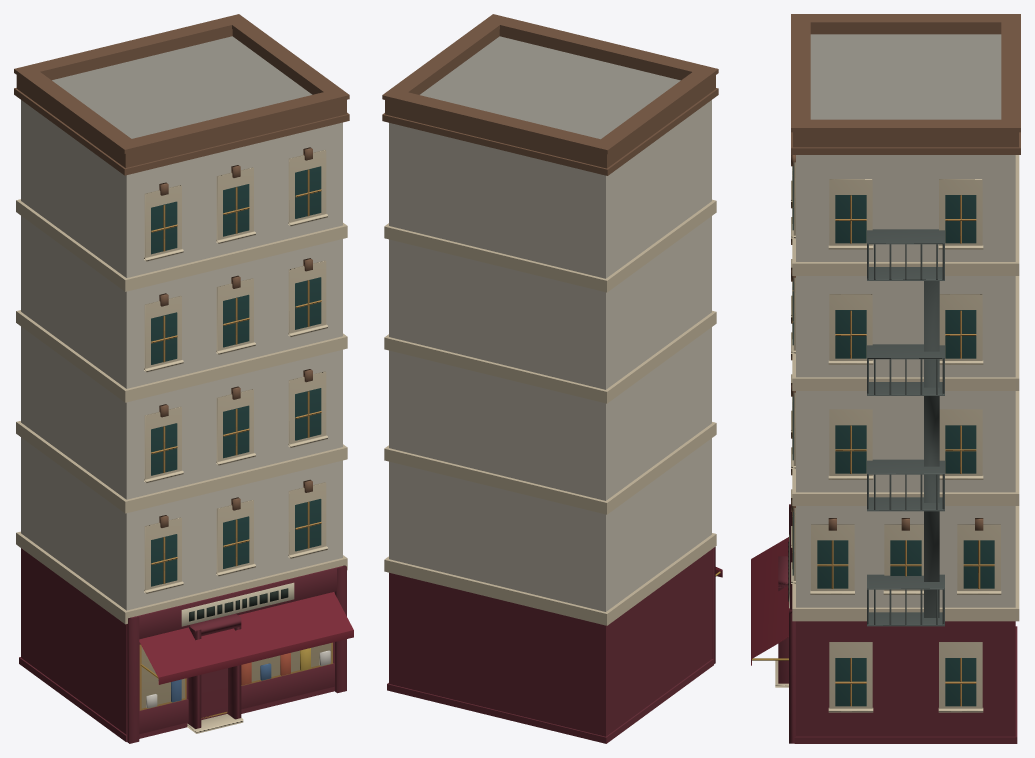
File: city_cream_5.glb
The picture shows the model from 3 angles, left to right: view 1: azimuth 30°, elevation 25°; view 2: azimuth 150°, elevation 25°; view 3: azimuth 270°, elevation 25°; orthographic projection. The views are drawn at different scales.
Visible parts, largest first — view 1: city_cream_5; view 2: city_cream_5; view 3: city_cream_5.
Boxes of the visible parts, box(x1,y1,x2,y2) form: city_cream_5: box(14, 14, 353, 743); city_cream_5: box(382, 14, 722, 743); city_cream_5: box(751, 14, 1020, 743).
Size of the model in its own units: 5.72 by 13.14 by 5.21.
